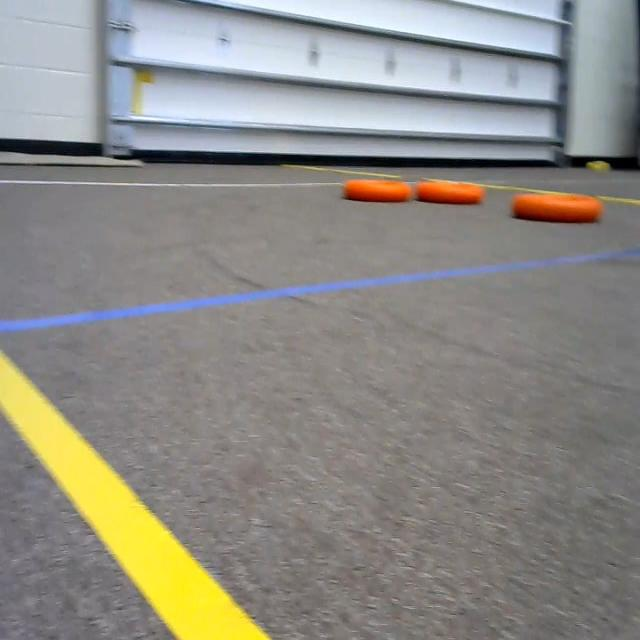note: (507, 182, 604, 228), (418, 167, 496, 210), (340, 167, 414, 211)
